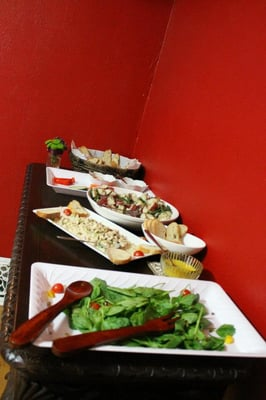sushi: (142, 220, 207, 261)
